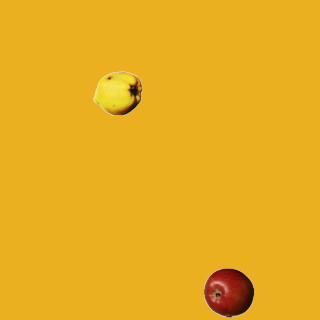Apple Braeburn: (203, 267, 253, 317)
Quince: (92, 68, 142, 118)
